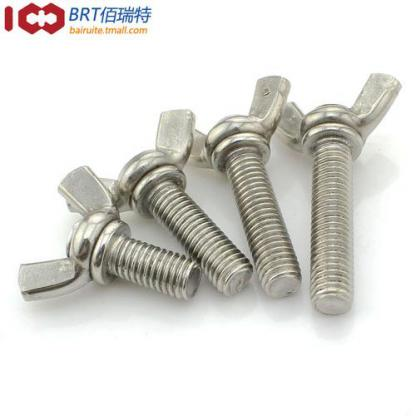FOD: (64, 106, 254, 298), (268, 70, 402, 316), (185, 76, 303, 302), (16, 165, 202, 305)
